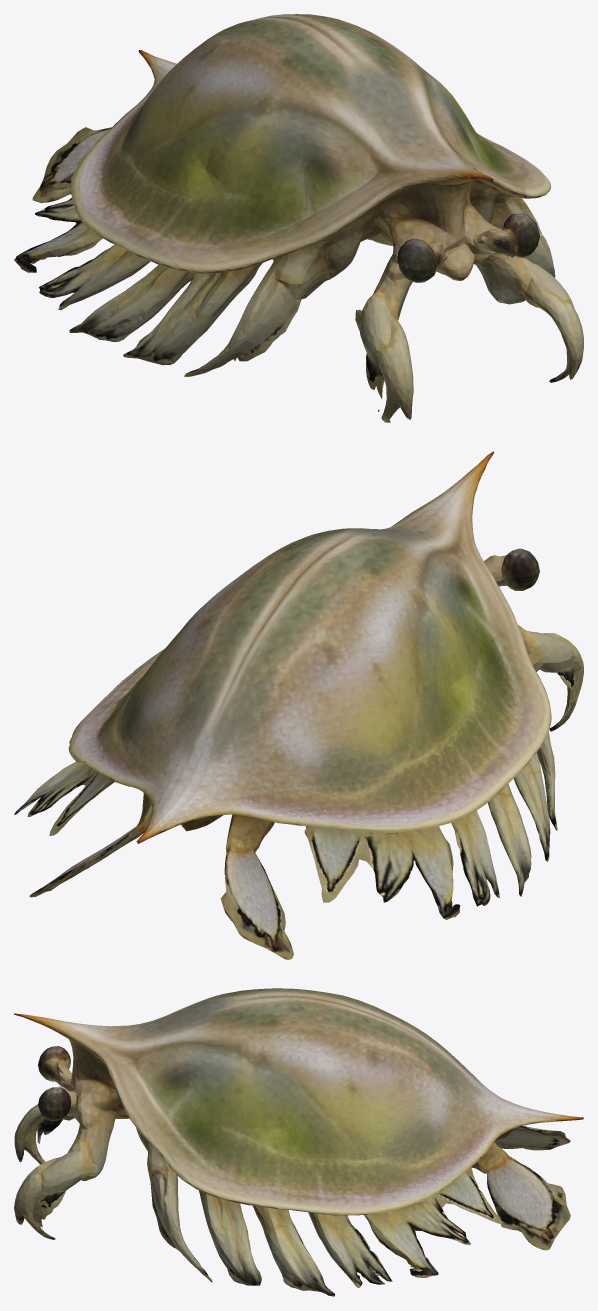
3 renders of one model, top to bottom at view 1: azimuth 30°, elevation 25°; view 2: azimuth 150°, elevation 25°; view 3: azimuth 270°, elevation 25°, orthographic. The views are drawn at different scales.
Parts seen in each view (by area): view 1: Isoxys; view 2: Isoxys; view 3: Isoxys.
Part boxes in pixels (x1,y1,x2,y2): Isoxys: (14,14,583,422); Isoxys: (14,451,583,959); Isoxys: (14,988,583,1296).
Size of the model in its own units: 0.0715 by 0.0402 by 0.097.
1 material, 1 textured.
